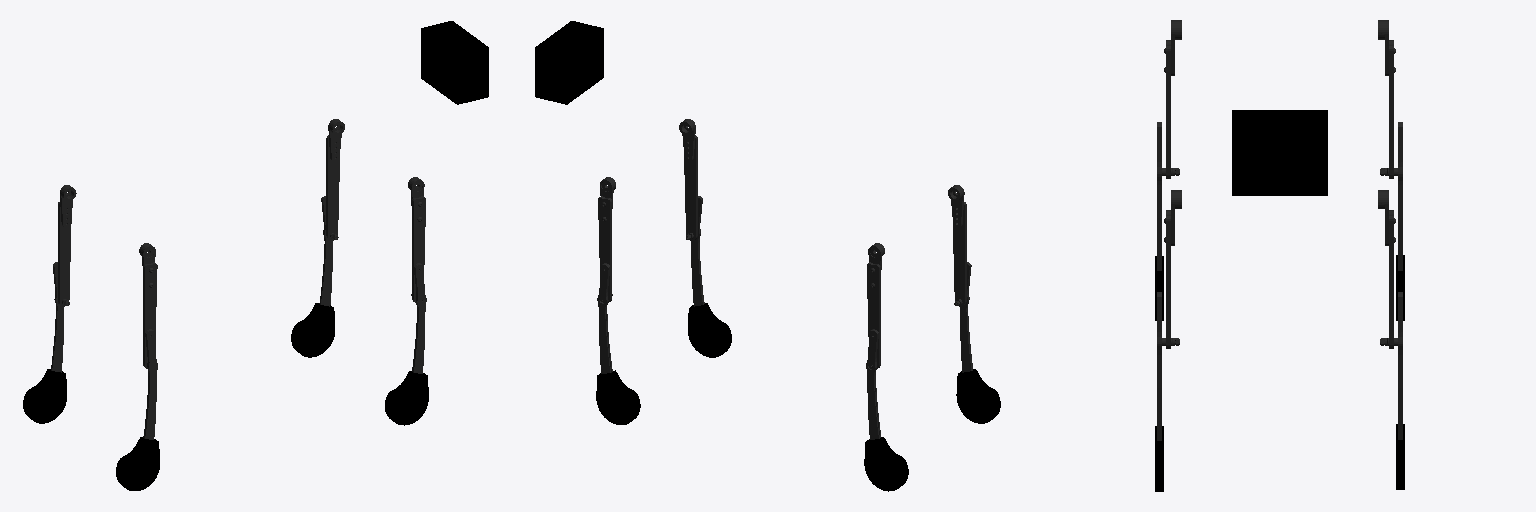
--- What the picture shows (computed from the rendered views, not written in the file) ---
The picture shows the robot from 3 angles, left to right: view 1: azimuth 30°, elevation 25°; view 2: azimuth 150°, elevation 25°; view 3: azimuth 270°, elevation 25°; orthographic projection.
Model witdog_description with 25 links and 24 joints (12 revolute, 12 fixed), rooted at base_link, posed all joints at 0.
Visible links, largest first — view 1: camera_link, lf_foot, rf_foot, lh_foot, rh_foot, lf_2, lh_2, rh_2, rf_2, rh_3, rf_3, lh_3 (+1 smaller); view 2: camera_link, rh_foot, lh_foot, rf_foot, lf_foot, rh_2, rf_2, lh_2, lf_2, lh_3, lf_3, rf_3 (+1 smaller); view 3: camera_link, lh_2, rh_2, lf_2, rf_2, rf_3, lh_3, rh_3, lf_3.
Link boxes in pixels (x1,y1,x2,y2): camera_link: [421, 21, 488, 104]; lf_foot: [291, 303, 334, 357]; rf_foot: [385, 371, 428, 425]; lh_foot: [23, 369, 66, 423]; rh_foot: [116, 437, 159, 490]; lf_2: [326, 119, 344, 240]; lh_2: [58, 185, 76, 306]; rh_2: [139, 243, 157, 368]; rf_2: [408, 177, 425, 302]; rh_3: [143, 329, 157, 439]; rf_3: [412, 263, 426, 373]; lh_3: [51, 262, 63, 372]; camera_link: [535, 21, 603, 104]; rh_foot: [956, 369, 1000, 423]; lh_foot: [864, 437, 908, 491]; rf_foot: [688, 303, 731, 357]; lf_foot: [596, 370, 640, 424]; rh_2: [948, 185, 966, 306]; rf_2: [679, 119, 697, 240]; lh_2: [867, 243, 884, 368]; lf_2: [598, 177, 615, 302]; lh_3: [866, 329, 880, 439]; lf_3: [597, 263, 612, 373]; rf_3: [691, 196, 704, 306]; camera_link: [1232, 110, 1327, 195]; lh_2: [1378, 20, 1397, 178]; rh_2: [1162, 20, 1181, 178]; lf_2: [1378, 190, 1397, 348]; rf_2: [1162, 190, 1181, 348]; rf_3: [1157, 292, 1161, 440]; lh_3: [1398, 122, 1402, 270]; rh_3: [1157, 122, 1161, 270]; lf_3: [1398, 292, 1402, 439].
Size in the robot's own frame: 0.2514 by 0.1048 by 0.198 metres.
Meshes: 18 distinct files referenced, 12 mesh visuals loaded (12 binary STL); not drawn: 6 (reference not matched to a file when rendering).

The robot description file, URDF, robot "witdog_description":
<?xml version="1.0" ?>
<!-- =================================================================================== -->
<!-- |    This document was autogenerated by xacro from witdog.xacro                   | -->
<!-- |    EDITING THIS FILE BY HAND IS NOT RECOMMENDED                                 | -->
<!-- =================================================================================== -->
<robot name="witdog_description">
  <material name="black">
    <color rgba="0.0 0.0 0.0 1.0"/>
  </material>
  <material name="blue">
    <color rgba="0.0 0.0 0.8 1.0"/>
  </material>
  <material name="green">
    <color rgba="0.0 0.8 0.0 1.0"/>
  </material>
  <material name="grey">
    <color rgba="0.2 0.2 0.2 1.0"/>
  </material>
  <material name="silver">
    <color rgba="0.9137254901960784 0.9137254901960784 0.8470588235294118 1.0"/>
  </material>
  <material name="orange">
    <color rgba="1.0 0.4235294117647059 0.0392156862745098 1.0"/>
  </material>
  <material name="brown">
    <color rgba="0.8705882352941177 0.8117647058823529 0.7647058823529411 1.0"/>
  </material>
  <material name="red">
    <color rgba="0.8 0.0 0.0 1.0"/>
  </material>
  <material name="white">
    <color rgba="1.0 1.0 1.0 1.0"/>
  </material>
  <link name="base_link">
    <visual>
      <origin rpy="0 0 0" xyz="0 0 0"/>
      <geometry>
        <mesh filename="package://witdog_description/meshes/base_link.STL"/>
      </geometry>
      <material name="black"/>
    </visual>
    <collision>
      <origin rpy="0 0 0" xyz="0 0 0"/>
      <geometry>
        <mesh filename="package://witdog_description/meshes/base_link.STL"/>
      </geometry>
    </collision>
  </link>
  <link name="inertia_link">
    <inertial>
      <origin rpy="0 0 0" xyz="0.0064015 0.0001745 -0.0022995"/>
      <mass value="0.27179"/>
      <inertia ixx="0.00013785" ixy="-5.3961E-10" ixz="6.5926E-07" iyy="0.00075341" iyz="-4.7116E-09" izz="0.00085245"/>
    </inertial>
  </link>
  <joint name="to_inertia" type="fixed">
    <origin rpy="0 0 0" xyz="0.08652 0.028001 -0.005647"/>
    <parent link="base_link"/>
    <child link="inertia_link"/>
    <axis xyz="0 0 0"/>
  </joint>
  <link name="lf_1">
    <inertial>
      <origin rpy="0 0 0" xyz="2.62515944628658E-05 0.0150369804172996 9.51730990358252E-06"/>
      <mass value="0.0168753571518718"/>
      <inertia ixx="5.86772270337693E-07" ixy="-1.1478585904503E-08" ixz="3.60262610589587E-13" iyy="1.49114161014324E-06" iyz="5.10343058591125E-12" izz="1.37161984297242E-06"/>
    </inertial>
    <visual>
      <origin rpy="0 0 0" xyz="0 0 0"/>
      <geometry>
        <mesh filename="package://witdog_description/meshes/lf_1.STL"/>
      </geometry>
      <material name="grey"/>
    </visual>
    <collision>
      <origin rpy="0 0 0" xyz="0 0 0"/>
      <geometry>
        <mesh filename="package://witdog_description/meshes/lf_1.STL"/>
      </geometry>
    </collision>
  </link>
  <joint name="to_lf1" type="revolute">
    <origin rpy="0 0 0" xyz="0.08652 0.028001 -0.005647"/>
    <parent link="base_link"/>
    <child link="lf_1"/>
    <axis xyz="1 0 0"/>
    <limit effort="0" lower="-3.14" upper="3.14" velocity="0"/>
  </joint>
  <link name="lf_2">
    <inertial>
      <origin rpy="0 0 0" xyz="-0.000216886891406632 0.00185556616401127 -0.0157060881233216"/>
      <mass value="0.00376828555575914"/>
      <inertia ixx="4.57030129343999E-07" ixy="1.35287251536321E-10" ixz="-6.03661913719452E-09" iyy="4.69057578447029E-07" iyz="9.79755214137285E-09" izz="1.99564242481259E-08"/>
    </inertial>
    <visual>
      <origin rpy="0 0 0" xyz="0 0 0"/>
      <geometry>
        <mesh filename="package://witdog_description/meshes/lf_2.STL"/>
      </geometry>
      <material name="grey"/>
    </visual>
    <collision>
      <origin rpy="0 0 0" xyz="0 0 0"/>
      <geometry>
        <mesh filename="package://witdog_description/meshes/lf_2.STL"/>
      </geometry>
    </collision>
  </link>
  <joint name="to_lf2" type="revolute">
    <origin rpy="0 0 0" xyz="-0.0057834 0.014959 0.00061935"/>
    <parent link="lf_1"/>
    <child link="lf_2"/>
    <axis xyz="0 1 0"/>
    <limit effort="0" lower="-3.14" upper="3.14" velocity="0"/>
  </joint>
  <link name="lf_3">
    <inertial>
      <origin rpy="0 0 0" xyz="-0.00207589878248646 -0.000650514564911272 -0.0275149145142826"/>
      <mass value="0.00287540455443767"/>
      <inertia ixx="1.9335811295872E-06" ixy="2.14692946226457E-11" ixz="-1.18699568589964E-07" iyy="1.95107431883104E-06" iyz="2.84040611360831E-10" izz="1.89776618357133E-08"/>
    </inertial>
    <visual>
      <origin rpy="0 0 0" xyz="0 0 0"/>
      <geometry>
        <mesh filename="package://witdog_description/meshes/lf_3.STL"/>
      </geometry>
      <material name="grey"/>
    </visual>
    <collision>
      <origin rpy="0 0 0" xyz="0 0 0"/>
      <geometry>
        <mesh filename="package://witdog_description/meshes/lf_3.STL"/>
      </geometry>
    </collision>
  </link>
  <joint name="to_lf3" type="revolute">
    <origin rpy="0 0 0" xyz="-0.00091985 0.0079405 -0.066613"/>
    <parent link="lf_2"/>
    <child link="lf_3"/>
    <axis xyz="0 1 0"/>
    <limit effort="0" lower="-3.14" upper="3.14" velocity="0"/>
  </joint>
  <link name="lf_foot">
    <inertial>
      <origin rpy="0 0 0" xyz="0.000733010852343454 -0.00200000000000003 0.000667379574654542"/>
      <mass value="0.00184082876311052"/>
      <inertia ixx="9.6355662245681E-08" ixy="-9.37574254460232E-23" ixz="-1.49911815454567E-08" iyy="1.84243192364973E-07" iyz="-6.25861926332428E-23" izz="9.362840682092E-08"/>
    </inertial>
    <visual>
      <origin rpy="0 0 0" xyz="0 0 0"/>
      <geometry>
        <mesh filename="package://witdog_description/meshes/lf_foot.STL"/>
      </geometry>
      <material name="black"/>
    </visual>
    <collision>
      <origin rpy="0 0 0" xyz="0 0 0"/>
      <geometry>
        <mesh filename="package://witdog_description/meshes/lf_foot.STL"/>
      </geometry>
    </collision>
  </link>
  <joint name="to_lffoot" type="fixed">
    <origin rpy="0 0 0" xyz="-0.0098189 0.0015 -0.059121"/>
    <parent link="lf_3"/>
    <child link="lf_foot"/>
    <axis xyz="0 0 0"/>
  </joint>
  <link name="rf_1">
    <inertial>
      <origin rpy="0 0 0" xyz="-2.3349E-05 -0.014987 5.2286E-06"/>
      <mass value="0.016886"/>
      <inertia ixx="5.867E-07" ixy="1.1479E-08" ixz="-8.3009E-14" iyy="1.4912E-06" iyz="5.3728E-12" izz="1.3716E-06"/>
    </inertial>
    <visual>
      <origin rpy="0 0 0" xyz="0 0 0"/>
      <geometry>
        <mesh filename="package://witdog_description/meshes/rf_1.STL"/>
      </geometry>
      <material name="grey"/>
    </visual>
    <collision>
      <origin rpy="0 0 0" xyz="0 0 0"/>
      <geometry>
        <mesh filename="package://witdog_description/meshes/rf_1.STL"/>
      </geometry>
    </collision>
  </link>
  <joint name="to_rf1" type="revolute">
    <origin rpy="0 0 0" xyz="0.08652 -0.028 -0.005647"/>
    <parent link="base_link"/>
    <child link="rf_1"/>
    <axis xyz="1 0 0"/>
    <limit effort="0" lower="-3.14" upper="3.14" velocity="0"/>
  </joint>
  <link name="rf_2">
    <inertial>
      <origin rpy="0 0 0" xyz="-0.000216884414840048 -0.0018570506821472 -0.0157060845364545"/>
      <mass value="0.00376828555575914"/>
      <inertia ixx="4.57030137864287E-07" ixy="-1.35296428717452E-10" ixz="-6.0366169993765E-09" iyy="4.69057578447029E-07" iyz="-9.79755052881623E-09" izz="1.99564157278384E-08"/>
    </inertial>
    <visual>
      <origin rpy="0 0 0" xyz="0 0 0"/>
      <geometry>
        <mesh filename="package://witdog_description/meshes/rf_2.STL"/>
      </geometry>
      <material name="grey"/>
    </visual>
    <collision>
      <origin rpy="0 0 0" xyz="0 0 0"/>
      <geometry>
        <mesh filename="package://witdog_description/meshes/rf_2.STL"/>
      </geometry>
    </collision>
  </link>
  <joint name="to_rf2" type="revolute">
    <origin rpy="0 0 0" xyz="-0.0057834 -0.014959 0.00061935"/>
    <parent link="rf_1"/>
    <child link="rf_2"/>
    <axis xyz="0 1 0"/>
    <limit effort="0" lower="-3.14" upper="3.14" velocity="0"/>
  </joint>
  <link name="rf_3">
    <inertial>
      <origin rpy="0 0 0" xyz="-0.00216416743732465 0.000904314415320434 -0.0285792043747879"/>
      <mass value="0.00196785726106261"/>
      <inertia ixx="1.42269543853101E-06" ixy="1.83743282998077E-11" ixz="-8.70066094481725E-08" iyy="1.43524693168462E-06" iyz="2.42640446305924E-10" izz="1.38633327625019E-08"/>
    </inertial>
    <visual>
      <origin rpy="0 0 0" xyz="0 0 0"/>
      <geometry>
        <mesh filename="package://witdog_description/meshes/rf_3.STL"/>
      </geometry>
      <material name="grey"/>
    </visual>
    <collision>
      <origin rpy="0 0 0" xyz="0 0 0"/>
      <geometry>
        <mesh filename="package://witdog_description/meshes/rf_3.STL"/>
      </geometry>
    </collision>
  </link>
  <joint name="to_rf3" type="revolute">
    <origin rpy="0 0 0" xyz="-0.000919872443398681 -0.00834054054053998 -0.0666128977412097"/>
    <parent link="rf_2"/>
    <child link="rf_3"/>
    <axis xyz="0 1 0"/>
    <limit effort="0" lower="-3.14" upper="3.14" velocity="0"/>
  </joint>
  <link name="rf_foot">
    <inertial>
      <origin rpy="0 0 0" xyz="0.000733010852419357 0.002 0.000667379574624372"/>
      <mass value="0.00184082876311052"/>
      <inertia ixx="9.6355662245681E-08" ixy="6.61616672491364E-23" ixz="-1.49911815454568E-08" iyy="1.84243192364973E-07" iyz="1.65831138249206E-22" izz="9.36284068209202E-08"/>
    </inertial>
    <visual>
      <origin rpy="0 0 0" xyz="0 0 0"/>
      <geometry>
        <mesh filename="package://witdog_description/meshes/rf_foot.STL"/>
      </geometry>
      <material name="black"/>
    </visual>
    <collision>
      <origin rpy="0 0 0" xyz="0 0 0"/>
      <geometry>
        <mesh filename="package://witdog_description/meshes/rf_foot.STL"/>
      </geometry>
    </collision>
  </link>
  <joint name="to_rffoot" type="fixed">
    <origin rpy="0 0 0" xyz="-0.0091444 -0.0010914 -0.05939"/>
    <parent link="rf_3"/>
    <child link="rf_foot"/>
    <axis xyz="0 0 0"/>
  </joint>
  <link name="lh_1">
    <inertial>
      <origin rpy="0 0 0" xyz="-6.03000272297871E-06 0.015008835867718 9.49343399942945E-06"/>
      <mass value="0.016907001768691"/>
      <inertia ixx="5.86782918184644E-07" ixy="-1.1478497599886E-08" ixz="3.43437736980025E-13" iyy="1.49117811880208E-06" iyz="5.08627362657907E-12" izz="1.37165635303005E-06"/>
    </inertial>
    <visual>
      <origin rpy="0 0 0" xyz="0 0 0"/>
      <geometry>
        <mesh filename="package://witdog_description/meshes/lh_1.STL"/>
      </geometry>
      <material name="grey"/>
    </visual>
    <collision>
      <origin rpy="0 0 0" xyz="0 0 0"/>
      <geometry>
        <mesh filename="package://witdog_description/meshes/lh_1.STL"/>
      </geometry>
    </collision>
  </link>
  <joint name="to_lh1" type="revolute">
    <origin rpy="0 0 0" xyz="-0.08248 0.028001 -0.005937"/>
    <parent link="base_link"/>
    <child link="lh_1"/>
    <axis xyz="1 0 0"/>
    <limit effort="0" lower="-3.14" upper="3.14" velocity="0"/>
  </joint>
  <link name="lh_2">
    <inertial>
      <origin rpy="0 0 0" xyz="-0.000216886891503815 0.00185556616399846 -0.0157060881233222"/>
      <mass value="0.00376828555575914"/>
      <inertia ixx="4.57030129343999E-07" ixy="1.35287251536315E-10" ixz="-6.03661913719445E-09" iyy="4.69057578447029E-07" iyz="9.7975521413718E-09" izz="1.99564242481258E-08"/>
    </inertial>
    <visual>
      <origin rpy="0 0 0" xyz="0 0 0"/>
      <geometry>
        <mesh filename="package://witdog_description/meshes/lh_2.STL"/>
      </geometry>
      <material name="grey"/>
    </visual>
    <collision>
      <origin rpy="0 0 0" xyz="0 0 0"/>
      <geometry>
        <mesh filename="package://witdog_description/meshes/lh_2.STL"/>
      </geometry>
    </collision>
  </link>
  <joint name="to_lh2" type="revolute">
    <origin rpy="0 0 0" xyz="-0.00578344744545112 0.0149594594594723 0.000619354785077068"/>
    <parent link="lh_1"/>
    <child link="lh_2"/>
    <axis xyz="0 1 0"/>
    <limit effort="0" lower="-3.14" upper="3.14" velocity="0"/>
  </joint>
  <link name="lh_3">
    <inertial>
      <origin rpy="0 0 0" xyz="-0.00207589878256928 -0.000650514564957339 -0.0275149145142762"/>
      <mass value="0.00287540455443768"/>
      <inertia ixx="1.9335811295872E-06" ixy="2.14692946223957E-11" ixz="-1.18699568589963E-07" iyy="1.95107431883105E-06" iyz="2.84040611356618E-10" izz="1.89776618357133E-08"/>
    </inertial>
    <visual>
      <origin rpy="0 0 0" xyz="0 0 0"/>
      <geometry>
        <mesh filename="package://witdog_description/meshes/lh_3.STL"/>
      </geometry>
      <material name="grey"/>
    </visual>
    <collision>
      <origin rpy="0 0 0" xyz="0 0 0"/>
      <geometry>
        <mesh filename="package://witdog_description/meshes/lh_3.STL"/>
      </geometry>
    </collision>
  </link>
  <joint name="to_lh3" type="revolute">
    <origin rpy="0 0 0" xyz="-0.000919847336912388 0.00794054054057377 -0.0666130631353466"/>
    <parent link="lh_2"/>
    <child link="lh_3"/>
    <axis xyz="0 1 0"/>
    <limit effort="0" lower="-3.14" upper="3.14" velocity="0"/>
  </joint>
  <link name="lh_foot">
    <inertial>
      <origin rpy="0 0 0" xyz="0.000733010852452171 -0.002 0.000667379574611299"/>
      <mass value="0.00184082876311052"/>
      <inertia ixx="9.63556622456806E-08" ixy="1.61006081338392E-23" ixz="-1.49911815454567E-08" iyy="1.84243192364972E-07" iyz="-7.24514755910098E-23" izz="9.36284068209199E-08"/>
    </inertial>
    <visual>
      <origin rpy="0 0 0" xyz="0 0 0"/>
      <geometry>
        <mesh filename="package://witdog_description/meshes/lh_foot.STL"/>
      </geometry>
      <material name="black"/>
    </visual>
    <collision>
      <origin rpy="0 0 0" xyz="0 0 0"/>
      <geometry>
        <mesh filename="package://witdog_description/meshes/lh_foot.STL"/>
      </geometry>
    </collision>
  </link>
  <joint name="to_lhfoot" type="fixed">
    <origin rpy="0 0 0" xyz="-0.0094743 0.0015 -0.059258"/>
    <parent link="lh_3"/>
    <child link="lh_foot"/>
    <axis xyz="0 0 0"/>
  </joint>
  <link name="rh_1">
    <inertial>
      <origin rpy="0 0 0" xyz="4.74891857588089E-07 -0.0150062500764912 4.58882703502361E-08"/>
      <mass value="0.0169216154610647"/>
      <inertia ixx="5.86893757214148E-07" ixy="1.14787202324027E-08" ixz="-1.59097085677942E-13" iyy="1.49118392870456E-06" iyz="5.37933860162057E-12" izz="1.37176633132622E-06"/>
    </inertial>
    <visual>
      <origin rpy="0 0 0" xyz="0 0 0"/>
      <geometry>
        <mesh filename="package://witdog_description/meshes/rh_1.STL"/>
      </geometry>
      <material name="grey"/>
    </visual>
    <collision>
      <origin rpy="0 0 0" xyz="0 0 0"/>
      <geometry>
        <mesh filename="package://witdog_description/meshes/rh_1.STL"/>
      </geometry>
    </collision>
  </link>
  <joint name="to_rh1" type="revolute">
    <origin rpy="0 0 0" xyz="-0.08248 -0.028 -0.005937"/>
    <parent link="base_link"/>
    <child link="rh_1"/>
    <axis xyz="1 0 0"/>
    <limit effort="0" lower="-3.14" upper="3.14" velocity="0"/>
  </joint>
  <link name="rh_2">
    <inertial>
      <origin rpy="0 0 0" xyz="-0.000216884414840024 -0.00185705068214734 -0.0157060845364545"/>
      <mass value="0.00376828555575914"/>
      <inertia ixx="4.57030137864287E-07" ixy="-1.35296428717489E-10" ixz="-6.03661699937682E-09" iyy="4.6905757844703E-07" iyz="-9.79755052881791E-09" izz="1.99564157278385E-08"/>
    </inertial>
    <visual>
      <origin rpy="0 0 0" xyz="0 0 0"/>
      <geometry>
        <mesh filename="package://witdog_description/meshes/rh_2.STL"/>
      </geometry>
      <material name="grey"/>
    </visual>
    <collision>
      <origin rpy="0 0 0" xyz="0 0 0"/>
      <geometry>
        <mesh filename="package://witdog_description/meshes/rh_2.STL"/>
      </geometry>
    </collision>
  </link>
  <joint name="to_rh2" type="revolute">
    <origin rpy="0 0 0" xyz="-0.00578344744554893 -0.0149594594594607 0.000619354785075757"/>
    <parent link="rh_1"/>
    <child link="rh_2"/>
    <axis xyz="0 1 0"/>
    <limit effort="0" lower="-3.14" upper="3.14" velocity="0"/>
  </joint>
  <link name="rh_3">
    <inertial>
      <origin rpy="0 0 0" xyz="-0.00216416743732464 0.000904314415320323 -0.0285792043747879"/>
      <mass value="0.00196785726106261"/>
      <inertia ixx="1.42269543853101E-06" ixy="1.83743282994624E-11" ixz="-8.70066094481737E-08" iyy="1.43524693168462E-06" iyz="2.42640446300413E-10" izz="1.3863332762502E-08"/>
    </inertial>
    <visual>
      <origin rpy="0 0 0" xyz="0 0 0"/>
      <geometry>
        <mesh filename="package://witdog_description/meshes/rh_3.STL"/>
      </geometry>
      <material name="grey"/>
    </visual>
    <collision>
      <origin rpy="0 0 0" xyz="0 0 0"/>
      <geometry>
        <mesh filename="package://witdog_description/meshes/rh_3.STL"/>
      </geometry>
    </collision>
  </link>
  <joint name="to_rh3" type="revolute">
    <origin rpy="0 0 0" xyz="-0.000919872443398723 -0.00834054054054026 -0.0666128977412097"/>
    <parent link="rh_2"/>
    <child link="rh_3"/>
    <axis xyz="0 1 0"/>
    <limit effort="0" lower="-3.14" upper="3.14" velocity="0"/>
  </joint>
  <link name="rh_foot">
    <inertial>
      <origin rpy="0 0 0" xyz="0.000733010852420668 0.002 0.0006673795746239"/>
      <mass value="0.00184082876311052"/>
      <inertia ixx="9.6355662245681E-08" ixy="1.0026239024509E-22" ixz="-1.49911815454567E-08" iyy="1.84243192364973E-07" iyz="1.52192774825146E-22" izz="9.36284068209202E-08"/>
    </inertial>
    <visual>
      <origin rpy="0 0 0" xyz="0 0 0"/>
      <geometry>
        <mesh filename="package://witdog_description/meshes/rh_foot.STL"/>
      </geometry>
      <material name="black"/>
    </visual>
    <collision>
      <origin rpy="0 0 0" xyz="0 0 0"/>
      <geometry>
        <mesh filename="package://witdog_description/meshes/rh_foot.STL"/>
      </geometry>
    </collision>
  </link>
  <joint name="to_rhfoot" type="fixed">
    <origin rpy="0 0 0" xyz="-0.0092382 -0.0010914 -0.059352"/>
    <parent link="rh_3"/>
    <child link="rh_foot"/>
    <axis xyz="0 0 0"/>
  </joint>
  <!-- Transmission is important to link the joints and the controller -->
  <transmission name="to_lf1_trans">
    <type>transmission_interface/SimpleTransmission</type>
    <joint name="to_lf1">
      <hardwareInterface>hardware_interface/EffortJointInterface</hardwareInterface>
    </joint>
    <actuator name="to_lf1_motor">
      <hardwareInterface>hardware_interface/EffortJointInterface</hardwareInterface>
      <mechanicalReduction>1</mechanicalReduction>
    </actuator>
  </transmission>
  <!-- Transmission is important to link the joints and the controller -->
  <transmission name="to_lf2_trans">
    <type>transmission_interface/SimpleTransmission</type>
    <joint name="to_lf2">
      <hardwareInterface>hardware_interface/EffortJointInterface</hardwareInterface>
    </joint>
    <actuator name="to_lf2_motor">
      <hardwareInterface>hardware_interface/EffortJointInterface</hardwareInterface>
      <mechanicalReduction>1</mechanicalReduction>
    </actuator>
  </transmission>
  <!-- Transmission is important to link the joints and the controller -->
  <transmission name="to_lf3_trans">
    <type>transmission_interface/SimpleTransmission</type>
    <joint name="to_lf3">
      <hardwareInterface>hardware_interface/EffortJointInterface</hardwareInterface>
    </joint>
    <actuator name="to_lf3_motor">
      <hardwareInterface>hardware_interface/EffortJointInterface</hardwareInterface>
      <mechanicalReduction>1</mechanicalReduction>
    </actuator>
  </transmission>
  <!-- Transmission is important to link the joints and the controller -->
  <transmission name="to_rf1_trans">
    <type>transmission_interface/SimpleTransmission</type>
    <joint name="to_rf1">
      <hardwareInterface>hardware_interface/EffortJointInterface</hardwareInterface>
    </joint>
    <actuator name="to_rf1_motor">
      <hardwareInterface>hardware_interface/EffortJointInterface</hardwareInterface>
      <mechanicalReduction>1</mechanicalReduction>
    </actuator>
  </transmission>
  <!-- Transmission is important to link the joints and the controller -->
  <transmission name="to_rf2_trans">
    <type>transmission_interface/SimpleTransmission</type>
    <joint name="to_rf2">
      <hardwareInterface>hardware_interface/EffortJointInterface</hardwareInterface>
    </joint>
    <actuator name="to_rf2_motor">
      <hardwareInterface>hardware_interface/EffortJointInterface</hardwareInterface>
      <mechanicalReduction>1</mechanicalReduction>
    </actuator>
  </transmission>
  <!-- Transmission is important to link the joints and the controller -->
  <transmission name="to_rf3_trans">
    <type>transmission_interface/SimpleTransmission</type>
    <joint name="to_rf3">
      <hardwareInterface>hardware_interface/EffortJointInterface</hardwareInterface>
    </joint>
    <actuator name="to_rf3_motor">
      <hardwareInterface>hardware_interface/EffortJointInterface</hardwareInterface>
      <mechanicalReduction>1</mechanicalReduction>
    </actuator>
  </transmission>
  <!-- Transmission is important to link the joints and the controller -->
  <transmission name="to_lh1_trans">
    <type>transmission_interface/SimpleTransmission</type>
    <joint name="to_lh1">
      <hardwareInterface>hardware_interface/EffortJointInterface</hardwareInterface>
    </joint>
    <actuator name="to_lh1_motor">
      <hardwareInterface>hardware_interface/EffortJointInterface</hardwareInterface>
      <mechanicalReduction>1</mechanicalReduction>
    </actuator>
  </transmission>
  <!-- Transmission is important to link the joints and the controller -->
  <transmission name="to_lh2_trans">
    <type>transmission_interface/SimpleTransmission</type>
    <joint name="to_lh2">
      <hardwareInterface>hardware_interface/EffortJointInterface</hardwareInterface>
    </joint>
    <actuator name="to_lh2_motor">
      <hardwareInterface>hardware_interface/EffortJointInterface</hardwareInterface>
      <mechanicalReduction>1</mechanicalReduction>
    </actuator>
  </transmission>
  <!-- Transmission is important to link the joints and the controller -->
  <transmission name="to_lh3_trans">
    <type>transmission_interface/SimpleTransmission</type>
    <joint name="to_lh3">
      <hardwareInterface>hardware_interface/EffortJointInterface</hardwareInterface>
    </joint>
    <actuator name="to_lh3_motor">
      <hardwareInterface>hardware_interface/EffortJointInterface</hardwareInterface>
      <mechanicalReduction>1</mechanicalReduction>
    </actuator>
  </transmission>
  <!-- Transmission is important to link the joints and the controller -->
  <transmission name="to_rh1_trans">
    <type>transmission_interface/SimpleTransmission</type>
    <joint name="to_rh1">
      <hardwareInterface>hardware_interface/EffortJointInterface</hardwareInterface>
    </joint>
    <actuator name="to_rh1_motor">
      <hardwareInterface>hardware_interface/EffortJointInterface</hardwareInterface>
      <mechanicalReduction>1</mechanicalReduction>
    </actuator>
  </transmission>
  <!-- Transmission is important to link the joints and the controller -->
  <transmission name="to_rh2_trans">
    <type>transmission_interface/SimpleTransmission</type>
    <joint name="to_rh2">
      <hardwareInterface>hardware_interface/EffortJointInterface</hardwareInterface>
    </joint>
    <actuator name="to_rh2_motor">
      <hardwareInterface>hardware_interface/EffortJointInterface</hardwareInterface>
      <mechanicalReduction>1</mechanicalReduction>
    </actuator>
  </transmission>
  <!-- Transmission is important to link the joints and the controller -->
  <transmission name="to_rh3_trans">
    <type>transmission_interface/SimpleTransmission</type>
    <joint name="to_rh3">
      <hardwareInterface>hardware_interface/EffortJointInterface</hardwareInterface>
    </joint>
    <actuator name="to_rh3_motor">
      <hardwareInterface>hardware_interface/EffortJointInterface</hardwareInterface>
      <mechanicalReduction>1</mechanicalReduction>
    </actuator>
  </transmission>
  <gazebo reference="base_link">
    <material>Gazebo/FlatBlack</material>
  </gazebo>
  <gazebo reference="lf_1">
    <kp>1000000.0</kp>
    <kd>1.0</kd>
    <mu1>0.8</mu1>
    <mu2>0.8</mu2>
    <maxVel>0.0</maxVel>
    <minDepth>0.001</minDepth>
    <material>Gazebo/DarkGrey</material>
  </gazebo>
  <gazebo reference="lf_2">
    <kp>1000000.0</kp>
    <kd>1.0</kd>
    <mu1>0.8</mu1>
    <mu2>0.8</mu2>
    <maxVel>0.0</maxVel>
    <minDepth>0.001</minDepth>
    <material>Gazebo/DarkGrey</material>
  </gazebo>
  <gazebo reference="lf_3">
    <kp>1000000.0</kp>
    <kd>1.0</kd>
    <mu1>0.8</mu1>
    <mu2>0.8</mu2>
    <maxVel>0.0</maxVel>
    <minDepth>0.001</minDepth>
    <material>Gazebo/DarkGrey</material>
  </gazebo>
  <gazebo reference="lf_foot">
    <kp>1000000.0</kp>
    <kd>1.0</kd>
    <mu1>0.8</mu1>
    <mu2>0.8</mu2>
    <maxVel>0.0</maxVel>
    <minDepth>0.001</minDepth>
    <material>Gazebo/Black</material>
  </gazebo>
  <gazebo reference="rf_1">
    <kp>1000000.0</kp>
    <kd>1.0</kd>
    <mu1>0.8</mu1>
    <mu2>0.8</mu2>
    <maxVel>0.0</maxVel>
    <minDepth>0.001</minDepth>
    <material>Gazebo/DarkGrey</material>
  </gazebo>
  <gazebo reference="rf_2">
    <kp>1000000.0</kp>
    <kd>1.0</kd>
    <mu1>0.8</mu1>
    <mu2>0.8</mu2>
    <maxVel>0.0</maxVel>
    <minDepth>0.001</minDepth>
    <material>Gazebo/DarkGrey</material>
  </gazebo>
  <gazebo reference="rf_3">
    <kp>1000000.0</kp>
    <kd>1.0</kd>
    <mu1>0.8</mu1>
    <mu2>0.8</mu2>
    <maxVel>0.0</maxVel>
    <minDepth>0.001</minDepth>
    <material>Gazebo/DarkGrey</material>
  </gazebo>
  <gazebo reference="rf_foot">
    <kp>1000000.0</kp>
    <kd>1.0</kd>
    <mu1>0.8</mu1>
    <mu2>0.8</mu2>
    <maxVel>0.0</maxVel>
    <minDepth>0.001</minDepth>
    <material>Gazebo/Black</material>
  </gazebo>
  <gazebo reference="lh_1">
    <kp>1000000.0</kp>
    <kd>1.0</kd>
    <mu1>0.8</mu1>
    <mu2>0.8</mu2>
    <maxVel>0.0</maxVel>
    <minDepth>0.001</minDepth>
    <material>Gazebo/DarkGrey</material>
  </gazebo>
  <gazebo reference="lh_2">
    <kp>1000000.0</kp>
    <kd>1.0</kd>
    <mu1>0.8</mu1>
    <mu2>0.8</mu2>
    <maxVel>0.0</maxVel>
    <minDepth>0.001</minDepth>
    <material>Gazebo/DarkGrey</material>
  </gazebo>
  <gazebo reference="lh_3">
    <kp>1000000.0</kp>
    <kd>1.0</kd>
    <mu1>0.8</mu1>
    <mu2>0.8</mu2>
    <maxVel>0.0</maxVel>
    <minDepth>0.001</minDepth>
    <material>Gazebo/DarkGrey</material>
  </gazebo>
  <gazebo reference="lh_foot">
    <kp>1000000.0</kp>
    <kd>1.0</kd>
    <mu1>0.8</mu1>
    <mu2>0.8</mu2>
    <maxVel>0.0</maxVel>
    <minDepth>0.001</minDepth>
    <material>Gazebo/Black</material>
  </gazebo>
  <gazebo reference="rh_1">
    <kp>1000000.0</kp>
    <kd>1.0</kd>
    <mu1>0.8</mu1>
    <mu2>0.8</mu2>
    <maxVel>0.0</maxVel>
    <minDepth>0.001</minDepth>
    <material>Gazebo/DarkGrey</material>
  </gazebo>
  <gazebo reference="rh_2">
    <kp>1000000.0</kp>
    <kd>1.0</kd>
    <mu1>0.8</mu1>
    <mu2>0.8</mu2>
    <maxVel>0.0</maxVel>
    <minDepth>0.001</minDepth>
    <material>Gazebo/DarkGrey</material>
  </gazebo>
  <gazebo reference="rh_3">
    <kp>1000000.0</kp>
    <kd>1.0</kd>
    <mu1>0.8</mu1>
    <mu2>0.8</mu2>
    <maxVel>0.0</maxVel>
    <minDepth>0.001</minDepth>
    <material>Gazebo/DarkGrey</material>
  </gazebo>
  <gazebo reference="rh_foot">
    <kp>1000000.0</kp>
    <kd>1.0</kd>
    <mu1>0.8</mu1>
    <mu2>0.8</mu2>
    <maxVel>0.0</maxVel>
    <minDepth>0.001</minDepth>
    <material>Gazebo/Black</material>
  </gazebo>
  
    # TODO :这里的三个准确参数需要修改
    
  <joint name="hokuyo_joint" type="fixed">
    <origin rpy="0 0 0" xyz="0.0 0.0 0.069"/>
    <parent link="base_link"/>
    <child link="hokuyo_frame"/>
  </joint>
  <link name="hokuyo_frame">
    <inertial>
      <mass value="0.270"/>
      <origin rpy="0 0 0" xyz="0 0 0"/>
      <inertia ixx="2.632e-4" ixy="0" ixz="0" iyy="2.632e-4" iyz="0" izz="1.62e-4"/>
    </inertial>
    <visual>
      <origin rpy="0 0 0" xyz="0 0 0"/>
      <geometry>
        <mesh filename="package://hector_sensors_description/meshes/hokuyo_utm30lx/hokuyo_utm_30lx.dae"/>
      </geometry>
    </visual>
    <collision>
      <origin rpy="0 0 0" xyz="0 0 -0.0115"/>
      <geometry>
        <box size="0.058 0.058 0.087"/>
        <!--<mesh filename="package://hector_sensors_description/meshes/hokuyo_utm30lx/hokuyo_utm_30lx.stl"/>-->
      </geometry>
    </collision>
  </link>
  <gazebo reference="hokuyo_frame">
    <sensor name="hokuyo" type="ray">
      <always_on>true</always_on>
      <update_rate>30</update_rate>
      <pose>0 0 0 0 0 0</pose>
      <visualize>false</visualize>
      <ray>
        <scan>
          <horizontal>
            <samples>1040</samples>
            <resolution>1</resolution>
            <min_angle>2.2689280275926285</min_angle>
            <max_angle>-2.2689280275926285</max_angle>
          </horizontal>
        </scan>
        <range>
          <min>0.2</min>
          <max>30.0</max>
          <resolution>0.01</resolution>
        </range>
        <noise>
          <type>gaussian</type>
          <mean>0.0</mean>
          <stddev>0.004</stddev>
        </noise>
      </ray>
      <plugin filename="libgazebo_ros_laser.so" name="gazebo_ros_hokuyo_controller">
        <topicName>scan</topicName>
        <frameName>hokuyo_frame</frameName>
      </plugin>
    </sensor>
  </gazebo>
  <joint name="camera_joint" type="fixed">
    <origin rpy="0 0 0" xyz="0.13 0.0 0.039"/>
    <parent link="base_link"/>
    <child link="camera_link"/>
  </joint>
  <link name="camera_link">
    <inertial>
      <mass value="0.200"/>
      <origin rpy="0 0 0" xyz="0 0 0"/>
      <inertia ixx="5.8083e-4" ixy="0" ixz="0" iyy="3.0833e-5" iyz="0" izz="5.9083e-4"/>
    </inertial>
    <visual>
      <origin rpy="0 0 0" xyz="0 0 0"/>
      <geometry>
        <box size="0.02 0.04 0.03"/>
      </geometry>
      <!-- <geometry>
            <mesh filename="package://hector_sensors_description/meshes/asus_camera/asus_camera_simple.dae"/>
          </geometry> -->
      <material name="black">
        <color rgba="0.0 0.0 0.0 1.0"/>
      </material>
    </visual>
    <!--        
       <collision>
          <origin xyz="0 0 0" rpy="0 0 0" />
          <geometry>
            <box size="0.035 0.185 0.025"/>
          </geometry>
        </collision>
        -->
    <collision>
      <origin rpy="0 0 0" xyz="0 0 0"/>
      <geometry>
        <mesh filename="package://hector_sensors_description/meshes/asus_camera/asus_camera_simple.dae"/>
      </geometry>
    </collision>
  </link>
  <joint name="camera_depth_joint" type="fixed">
    <origin rpy="0 0 0" xyz="0.0 0.049 0.0"/>
    <parent link="camera_link"/>
    <child link="camera_depth_frame"/>
  </joint>
  <link name="camera_depth_frame"/>
  <joint name="camera_depth_optical_joint" type="fixed">
    <origin rpy="-1.5707963267948966 0.0 -1.5707963267948966" xyz="0 0 0"/>
    <parent link="camera_depth_frame"/>
    <child link="camera_depth_optical_frame"/>
  </joint>
  <link name="camera_depth_optical_frame"/>
  <joint name="camera_rgb_joint" type="fixed">
    <origin rpy="0 0 0" xyz="0.0 0.022 0.0"/>
    <parent link="camera_link"/>
    <child link="camera_rgb_frame"/>
  </joint>
  <link name="camera_rgb_frame"/>
  <joint name="camera_rgb_optical_joint" type="fixed">
    <origin rpy="-1.5707963267948966 0.0 -1.5707963267948966" xyz="0 0 0"/>
    <parent link="camera_rgb_frame"/>
    <child link="camera_rgb_optical_frame"/>
  </joint>
  <link name="camera_rgb_optical_frame"/>
  <!-- ASUS Xtion PRO camera for simulation -->
  <gazebo reference="camera_depth_frame">
    <sensor name="camera" type="depth">
      <update_rate>20</update_rate>
      <camera>
        <horizontal_fov>1.0960667702524387</horizontal_fov>
        <image>
          <format>R8G8B8</format>
          <width>640</width>
          <height>480</height>
        </image>
        <clip>
          <near>0.5</near>
          <far>9</far>
        </clip>
      </camera>
      <plugin filename="libgazebo_ros_openni_kinect.so" name="camera_camera_controller">
        <imageTopicName>camera/rgb/image_raw</imageTopicName>
        <cameraInfoTopicName>camera/rgb/camera_info</cameraInfoTopicName>
        <depthImageTopicName>camera/depth/image_raw</depthImageTopicName>
        <depthImageCameraInfoTopicName>camera/depth/camera_info</depthImageCameraInfoTopicName>
        <pointCloudTopicName>camera/depth/points</pointCloudTopicName>
        <frameName>camera_depth_optical_frame</frameName>
      </plugin>
    </sensor>
  </gazebo>

   <!-- TODO :增加雷达
     TODO :修改foot的摩擦力,参考:https://github.com/OpenQuadruped/spot_mini_mini/pull/7
    -->
  <gazebo>
    <plugin filename="libgazebo_ros_p3d.so" name="p3d_base_controller">
      <alwaysOn>true</alwaysOn>
      <updateRate>10.0</updateRate>
      <bodyName>base_link</bodyName>
      <topicName>odom/ground_truth</topicName>
      <gaussianNoise>0.01</gaussianNoise>
      <frameName>world</frameName>
      <xyzOffsets>0 0 0</xyzOffsets>
      <rpyOffsets>0 0 0</rpyOffsets>
    </plugin>
  </gazebo>
  <gazebo>
    <plugin filename="libgazebo_ros_control.so" name="gazebo_ros_control">
      <legacyModeNS>true</legacyModeNS>
    </plugin>
  </gazebo>

  <link name="imu_link">
    <inertial>
      <mass value="0.001"/>
      <origin rpy="0 0 0" xyz="0 0 0"/>
      <inertia ixx="1e-09" ixy="0.0" ixz="0.0" iyy="1e-09" iyz="0.0" izz="1e-09"/>
    </inertial>
  </link>
  <joint name="imu_joint" type="fixed">
    <parent link="base_link"/>
    <child link="imu_link"/>
  </joint>
  <gazebo>
    <plugin filename="libhector_gazebo_ros_imu.so" name="imu_controller">
      <updateRate>50.0</updateRate>
      <bodyName>imu_link</bodyName>
      <topicName>imu/data</topicName>
      <accelDrift>0.005 0.005 0.005</accelDrift>
      <accelGaussianNoise>0.005 0.005 0.005</accelGaussianNoise>
      <rateDrift>0.005 0.005 0.005 </rateDrift>
      <rateGaussianNoise>0.005 0.005 0.005 </rateGaussianNoise>
      <headingDrift>0.005</headingDrift>
      <headingGaussianNoise>0.005</headingGaussianNoise>
    </plugin>
  </gazebo>
</robot>
